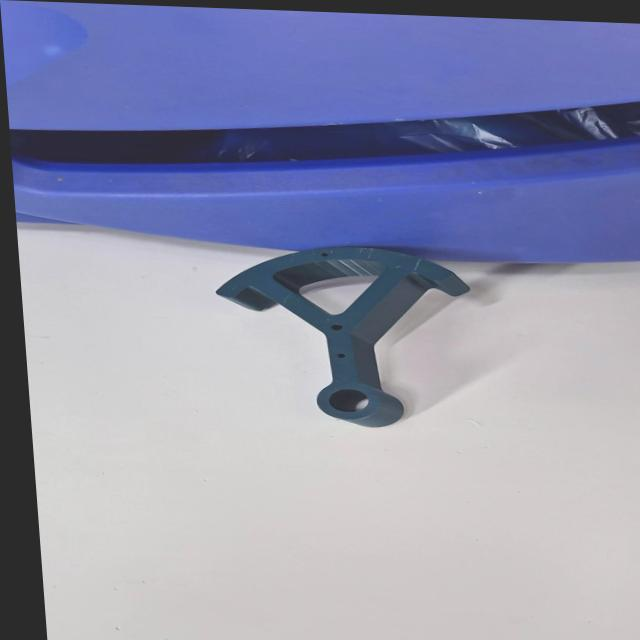haptic: (210, 241, 483, 432)
